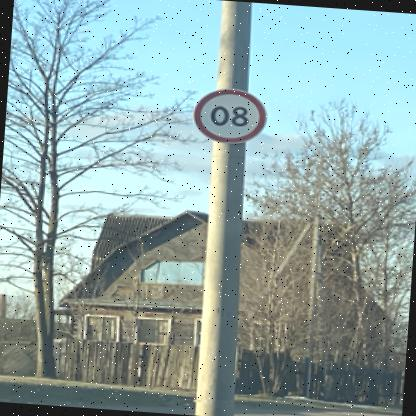speedlimit: (196, 86, 272, 145)
